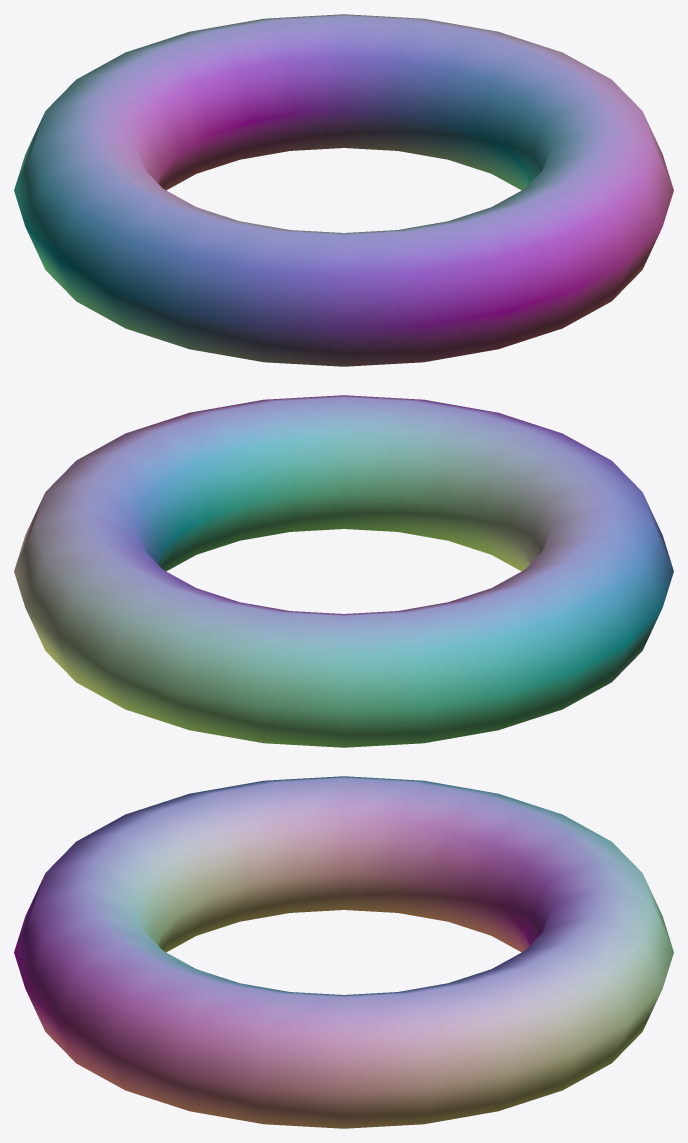
Rendered from env_deco_hairtie.glb.
3 renders of one model, top to bottom at view 1: azimuth 30°, elevation 25°; view 2: azimuth 150°, elevation 25°; view 3: azimuth 270°, elevation 25°, orthographic.
Visible parts, largest first — view 1: env_deco_hairtie_mesh; view 2: env_deco_hairtie_mesh; view 3: env_deco_hairtie_mesh.
Part boxes in pixels (<box>): env_deco_hairtie_mesh: <box>14,14,673,366</box>; env_deco_hairtie_mesh: <box>14,395,673,747</box>; env_deco_hairtie_mesh: <box>14,776,673,1128</box>.
Bounding box in the file's own units: 0.204 × 0.044 × 0.204.
